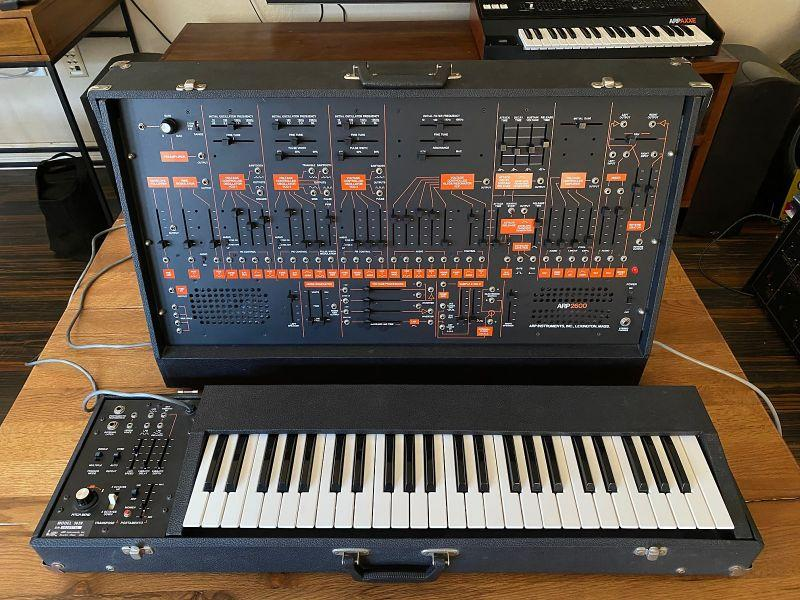synthesizer: (23, 66, 776, 578), (467, 6, 741, 60)
